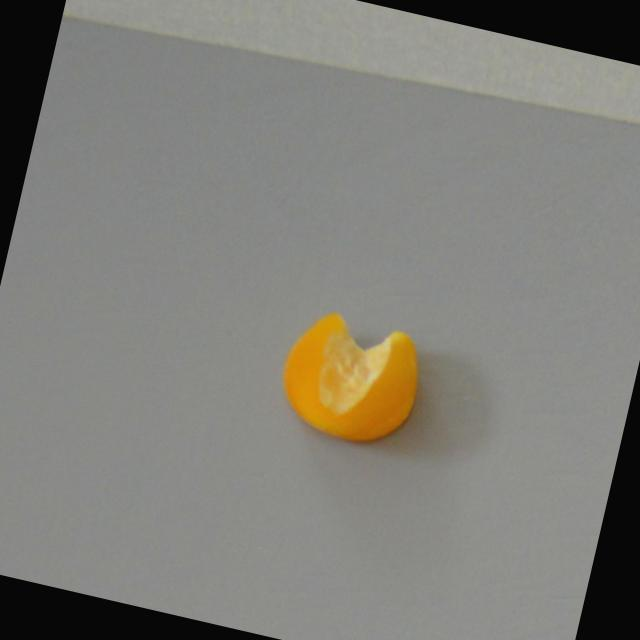no_desgerminado: (267, 300, 434, 459)
